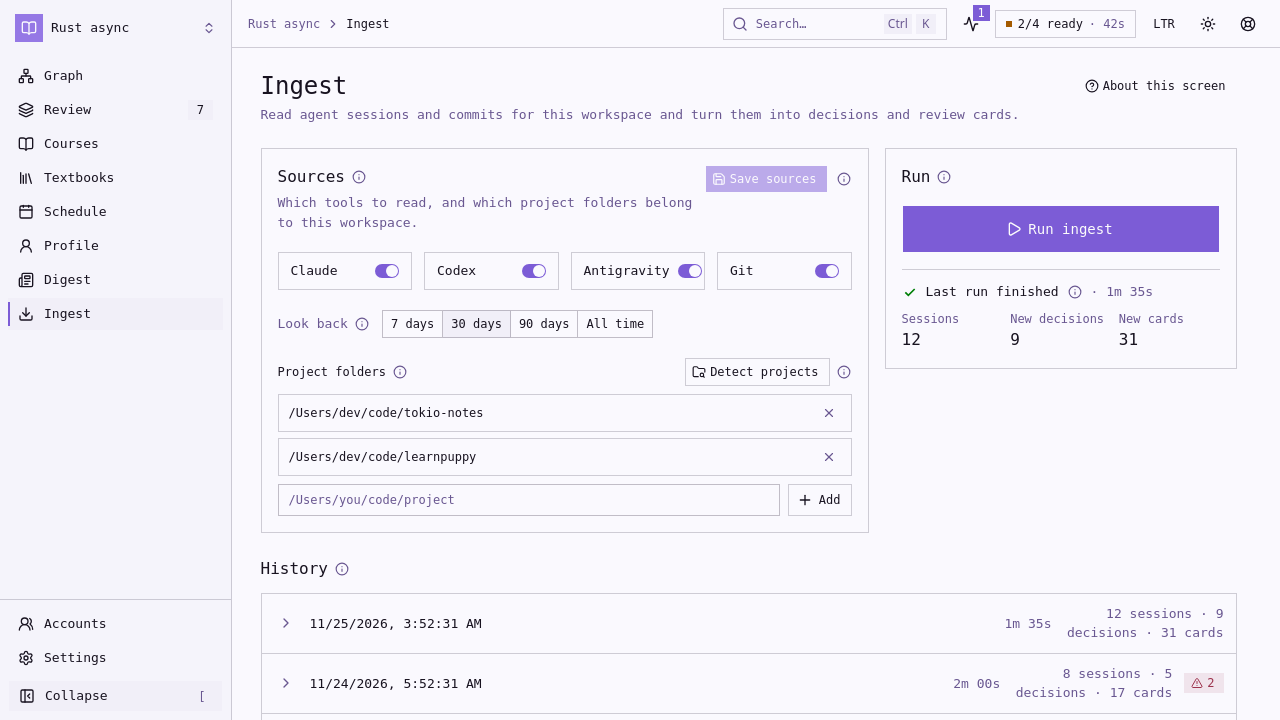
Test: ingest info › the project folders tip opens its dialog
This screenshot has width=1280, height=720.
Click the button named "About Project folders" at [400, 372], box [392,364,408,380]
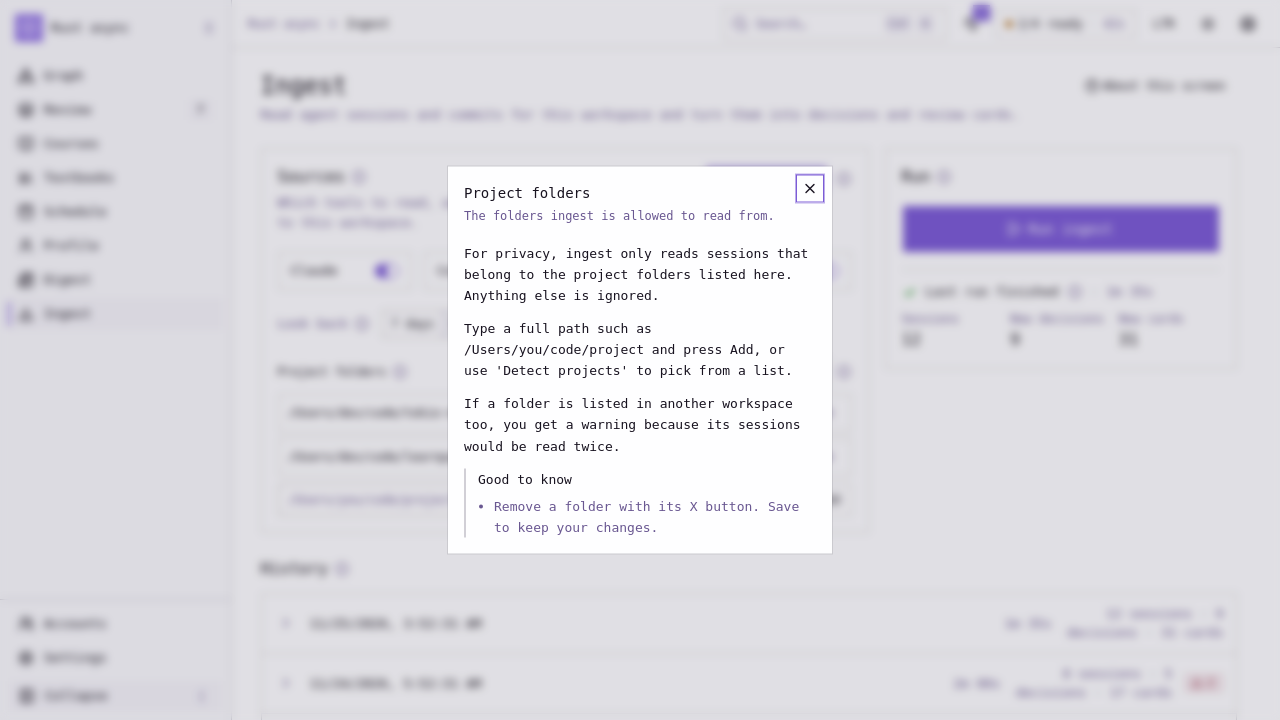
Now the dialog with test id "info-dialog" shows "only reads sessions that belong to the project folders", box [464,245,808,302]
